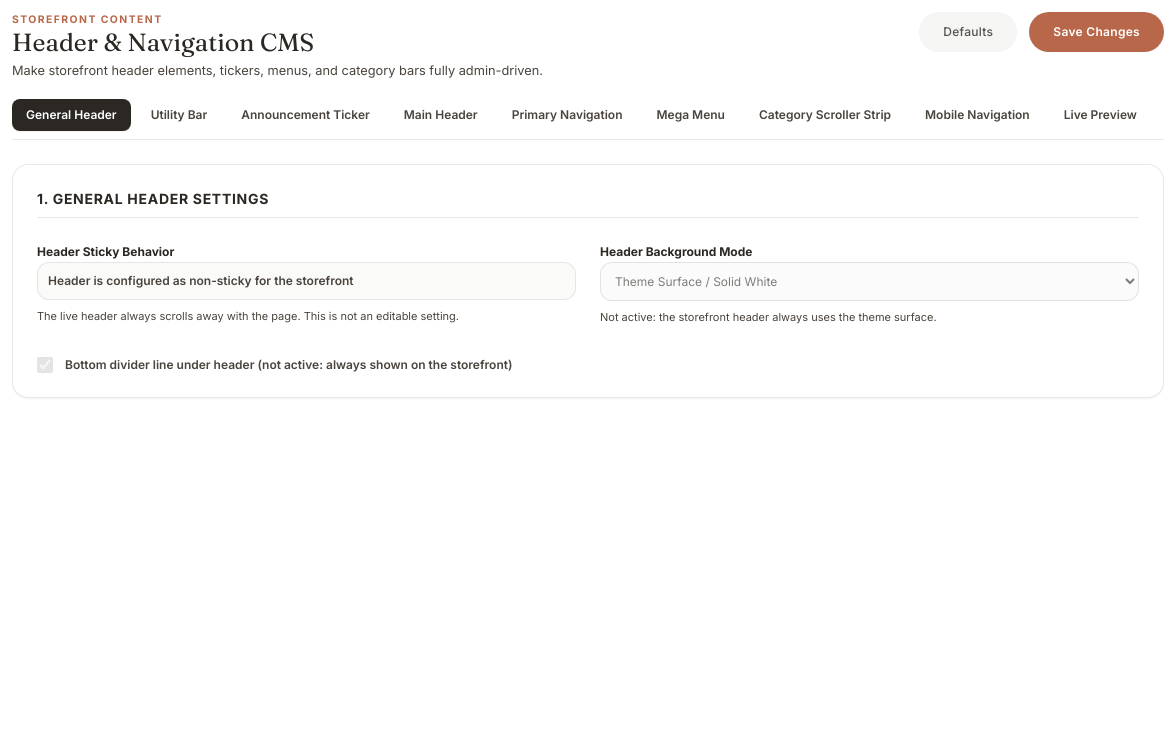
Test: Admin Header CMS save flow › 10. shows the backend validation message instead of a bare status
The width and height of the screenshot is (1176, 732).
Expected: the heading "Header & Navigation CMS" is shown, x1=12 y1=27 x2=314 y2=57
Click the button "Main Header" at (441, 114), box x1=390 y1=98 x2=492 y2=130
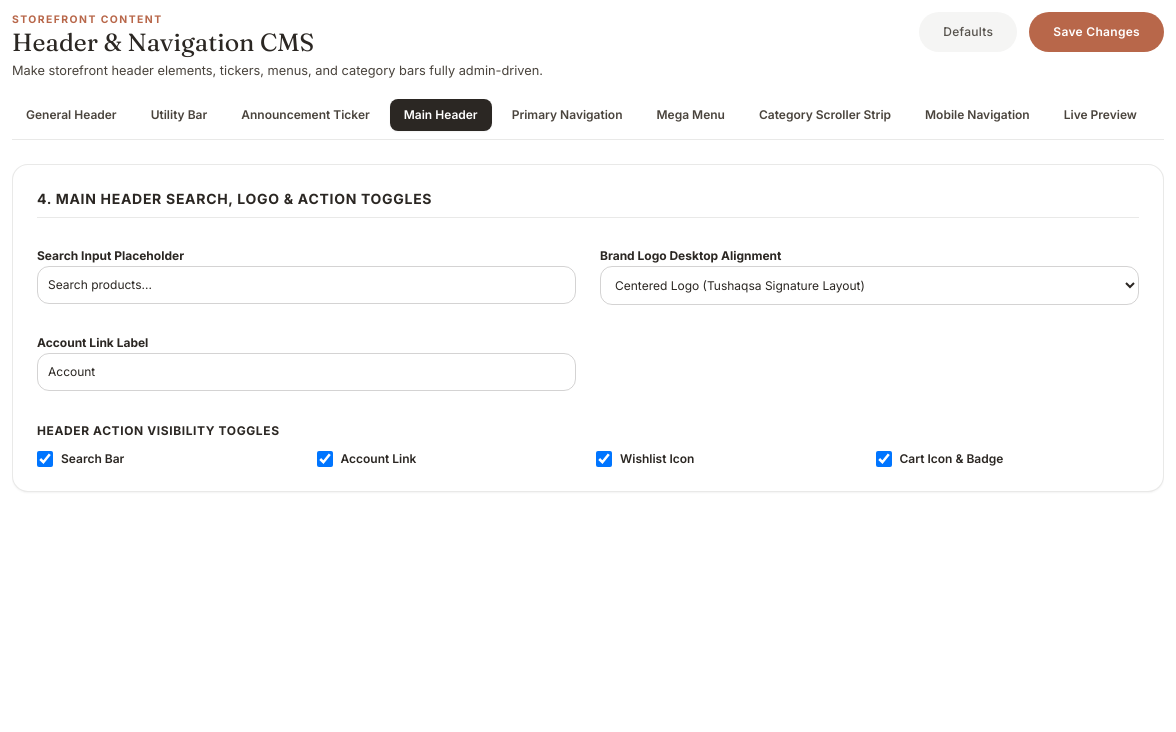
Replace the text in the field showing "Search products..." below "Search Input Placeholder" with "x" at (306, 284), box x1=37 y1=266 x2=576 y2=304
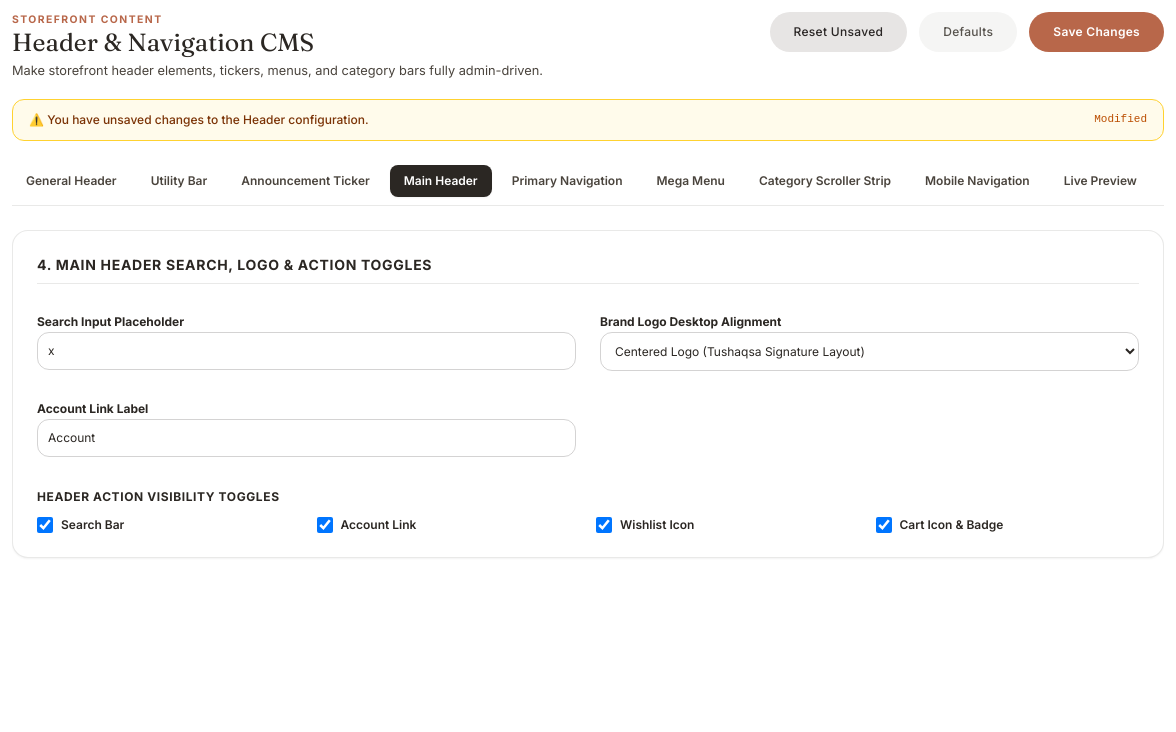
Click the button "Save Changes" at (1097, 32), box x1=1029 y1=12 x2=1164 y2=52
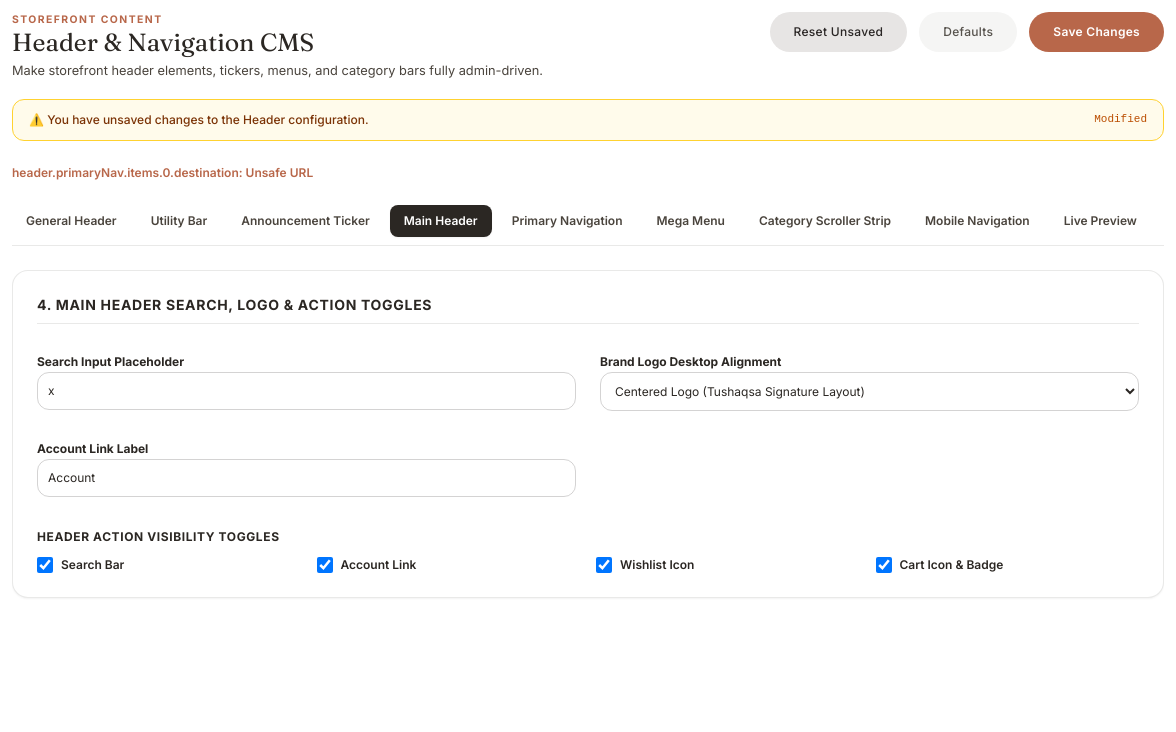
Expected: the text "header.primaryNav.items.0.destination: Unsafe URL" is shown, x1=12 y1=164 x2=313 y2=180
